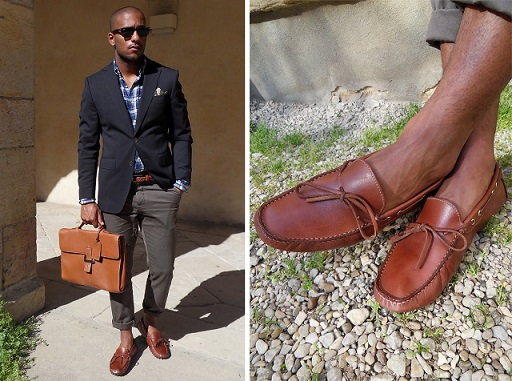shoe: (370, 145, 506, 317), (253, 161, 447, 255), (135, 314, 175, 361), (106, 335, 140, 377)
